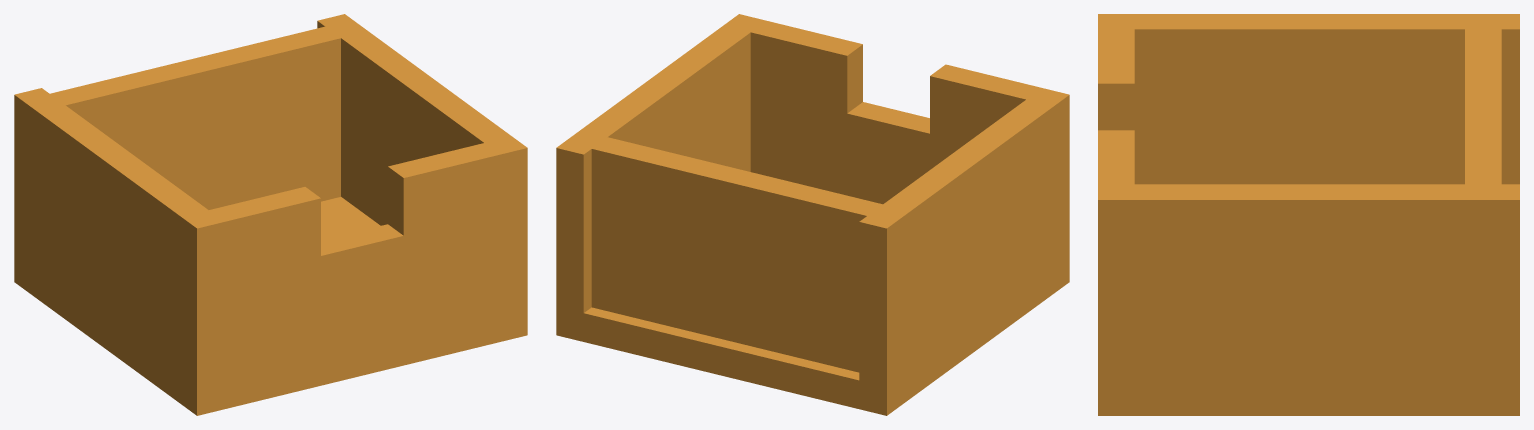
Rendered from voxel_32_30010.glb.
The picture shows the model from 3 angles, left to right: view 1: azimuth 30°, elevation 25°; view 2: azimuth 150°, elevation 25°; view 3: azimuth 270°, elevation 25°; orthographic projection. The views are drawn at different scales.
Parts seen in each view (by area): view 1: prop_30010; view 2: prop_30010; view 3: prop_30010.
Boxes of the visible parts, x1=… form: prop_30010: x1=14, y1=14, x2=527, y2=415; prop_30010: x1=556, y1=14, x2=1069, y2=415; prop_30010: x1=1098, y1=14, x2=1519, y2=415.
Size of the model in its own units: 0.6225 by 0.3372 by 0.5966.
